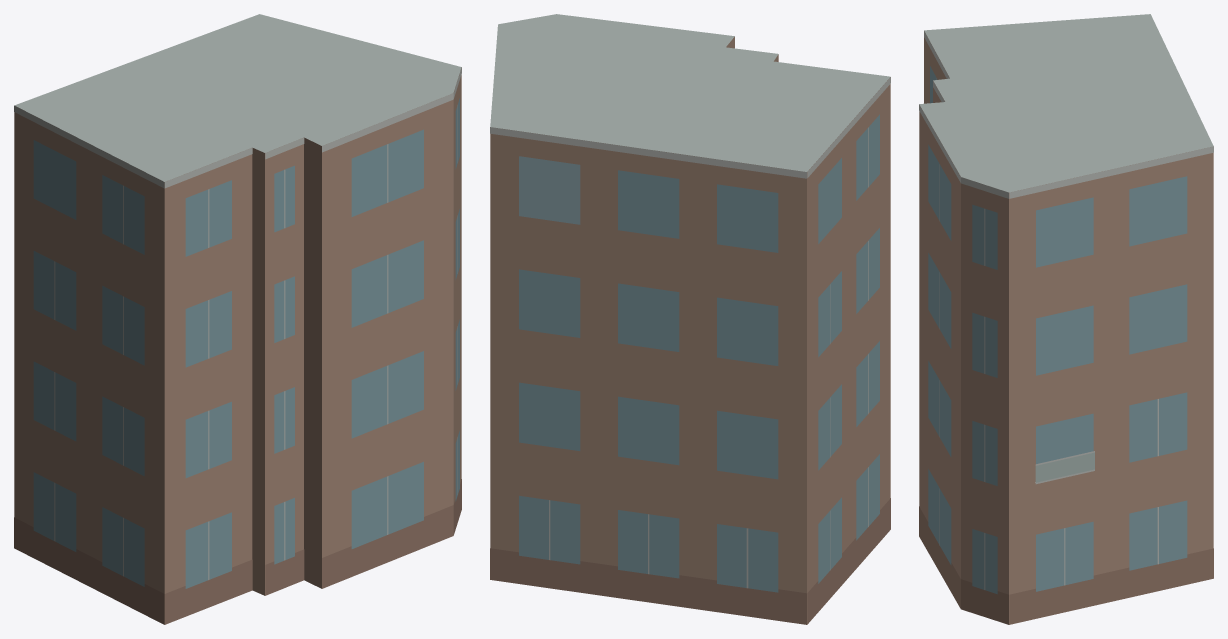
Rendered from survey-upis-32471080.glb.
3 views of the same model, side by side, from view 1: azimuth 30°, elevation 25°; view 2: azimuth 150°, elevation 25°; view 3: azimuth 270°, elevation 25° (orthographic). The views are drawn at different scales.
Parts seen in each view (by area): view 1: survey-upis-32471080.tmp; view 2: survey-upis-32471080.tmp; view 3: survey-upis-32471080.tmp.
Part boxes in pixels (x1=…): survey-upis-32471080.tmp: x1=14, y1=14, x2=461, y2=624; survey-upis-32471080.tmp: x1=490, y1=14, x2=890, y2=624; survey-upis-32471080.tmp: x1=919, y1=14, x2=1213, y2=624.
Bounding box in the file's own units: 14.63 × 16.5 × 10.2.
